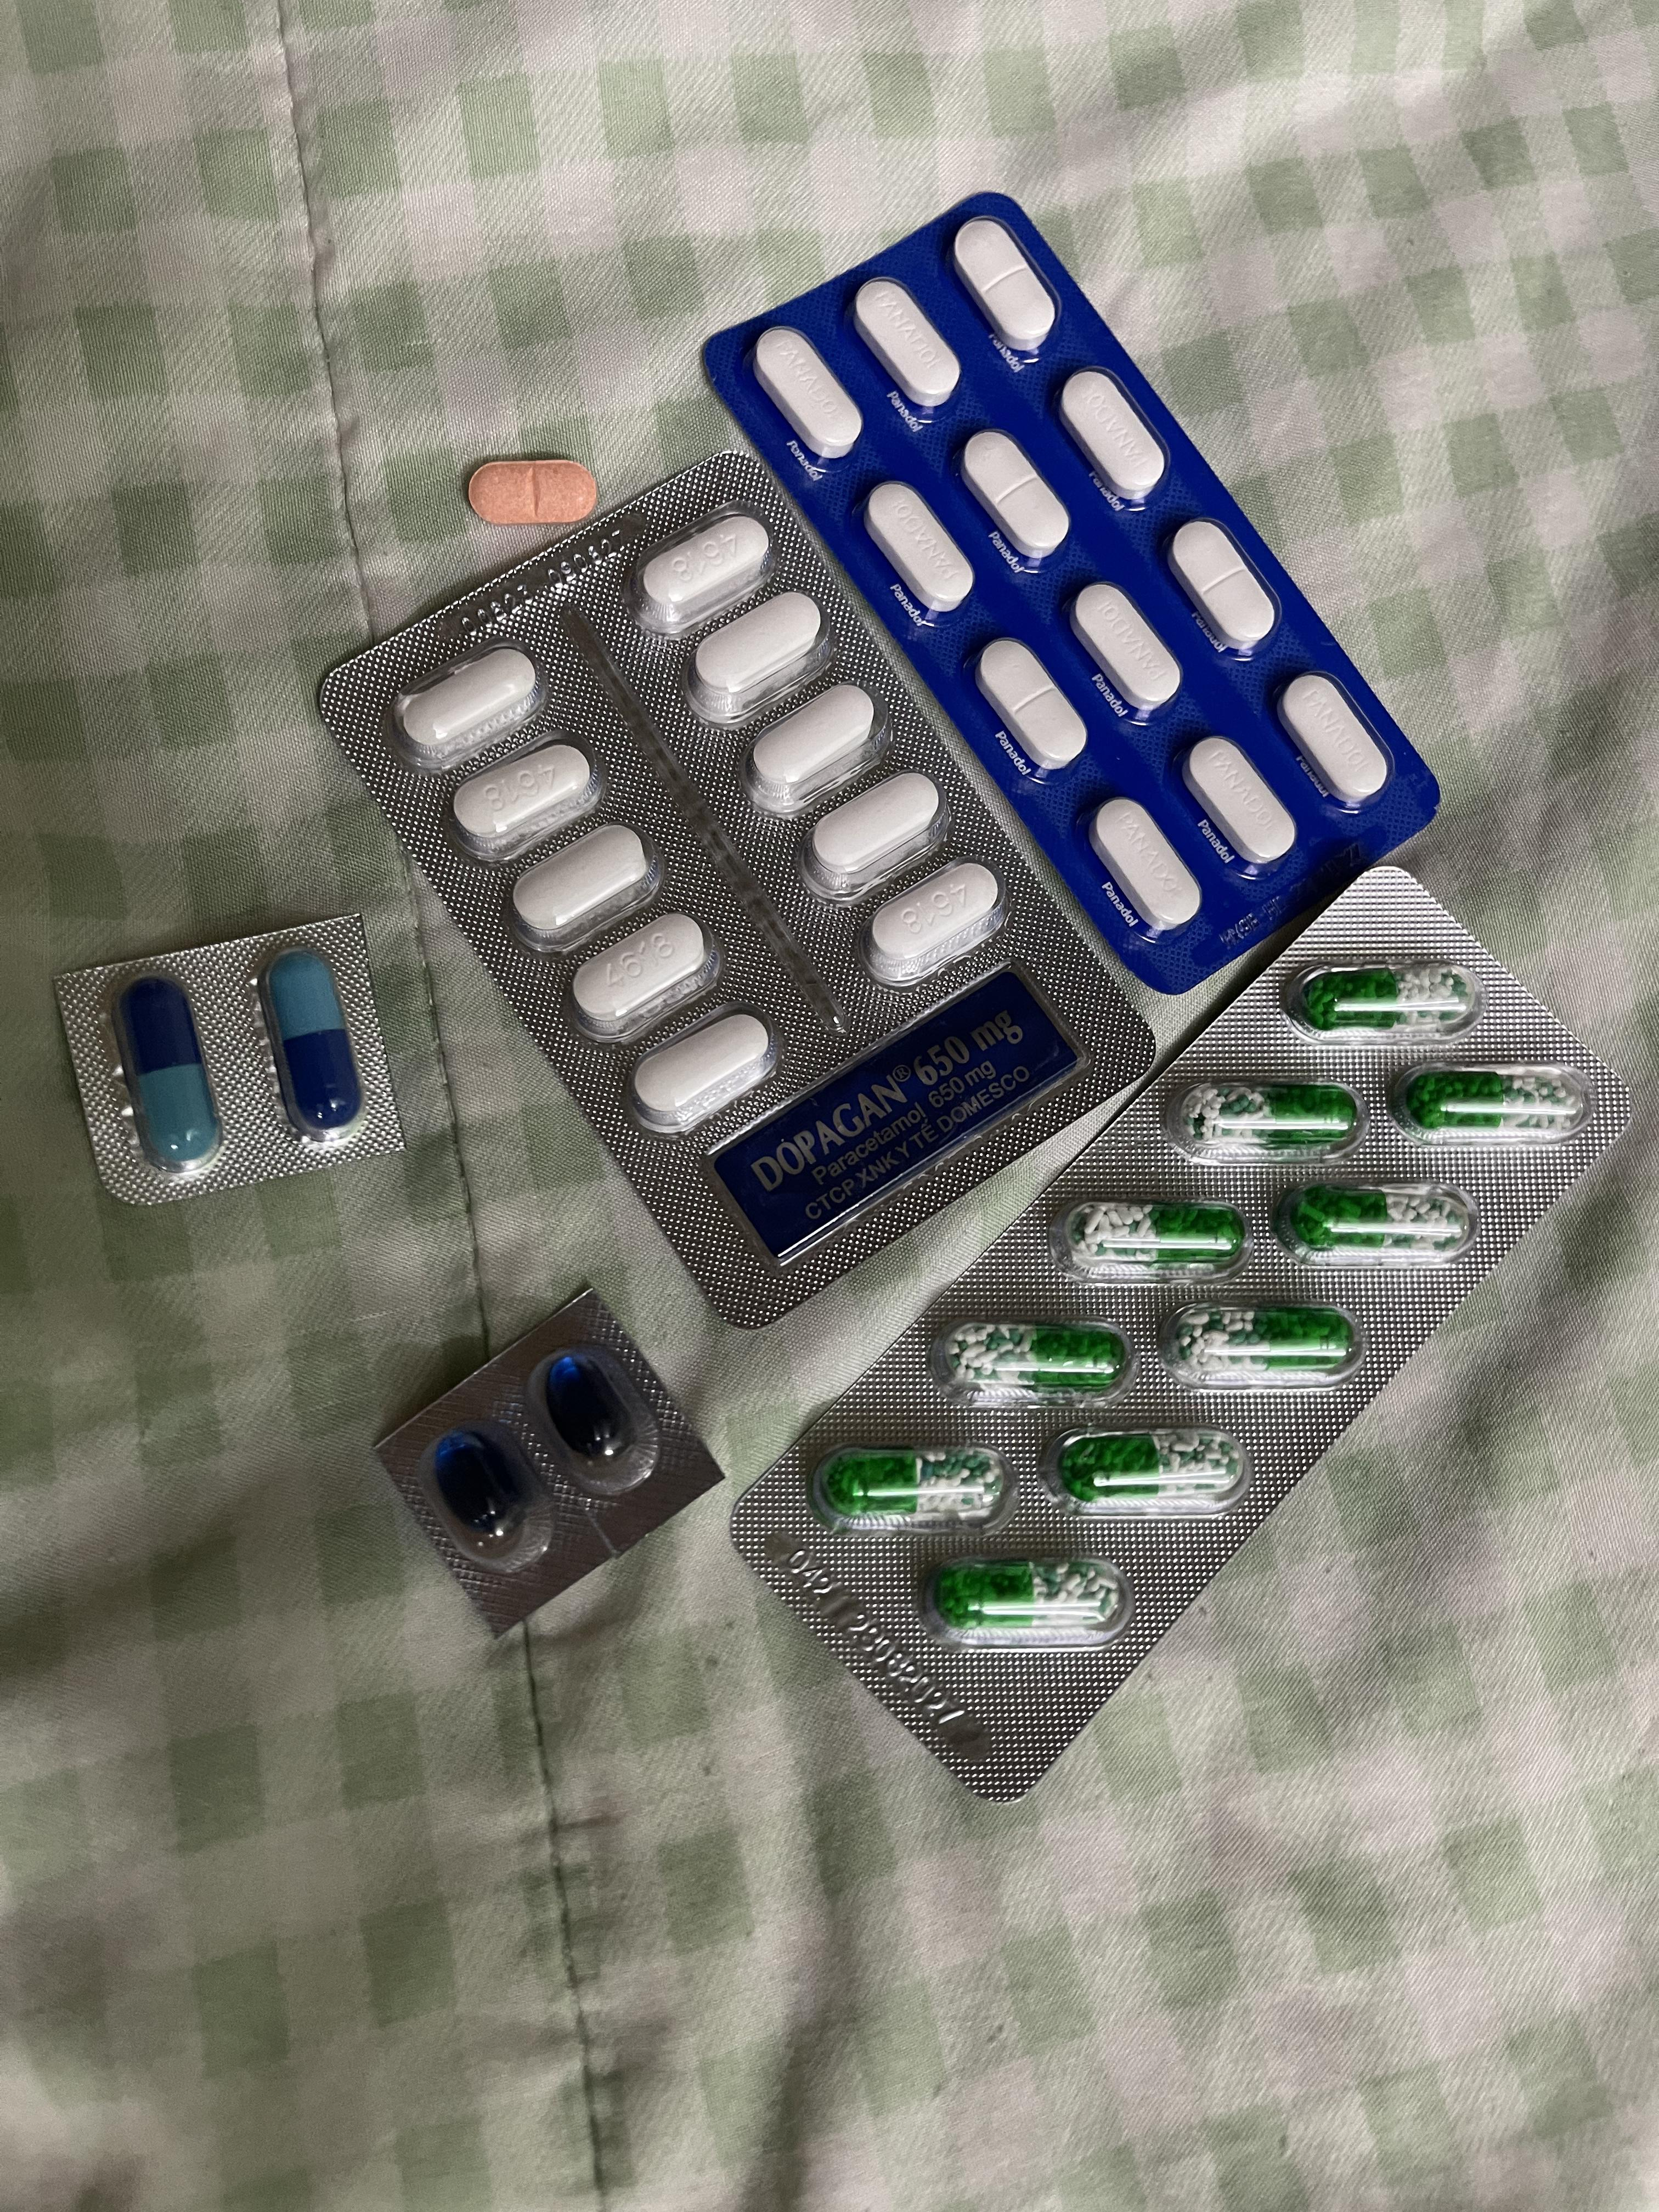Lincomyxin_500mg: (434, 1430, 525, 1538), (545, 1352, 634, 1461)
Loratadine_10mg: (469, 460, 601, 528)
Paracetamol_350mg: (1277, 672, 1391, 806), (864, 482, 976, 618), (1070, 583, 1185, 714), (974, 637, 1087, 770), (1183, 735, 1297, 867), (1087, 799, 1201, 932), (852, 279, 962, 415), (953, 214, 1060, 354), (1168, 519, 1279, 651), (1058, 369, 1168, 503), (960, 430, 1070, 564), (753, 326, 859, 463)
Paracetamol_500mg: (507, 820, 657, 949), (568, 911, 713, 1040), (394, 648, 542, 772), (450, 742, 598, 862), (631, 1012, 774, 1134), (690, 592, 824, 721), (749, 690, 882, 817), (864, 866, 1000, 986), (640, 519, 767, 632), (809, 772, 943, 878)
Paracetamol_650mg: (1058, 1195, 1258, 1277), (1391, 1061, 1593, 1141), (1276, 1183, 1478, 1263), (1286, 961, 1483, 1040), (821, 1451, 1004, 1522), (936, 1562, 1121, 1632), (1169, 1310, 1354, 1376), (1061, 1433, 1239, 1501), (946, 1325, 1122, 1383), (1182, 1085, 1352, 1144)
pill: (112, 972, 227, 1179), (258, 949, 368, 1146)
